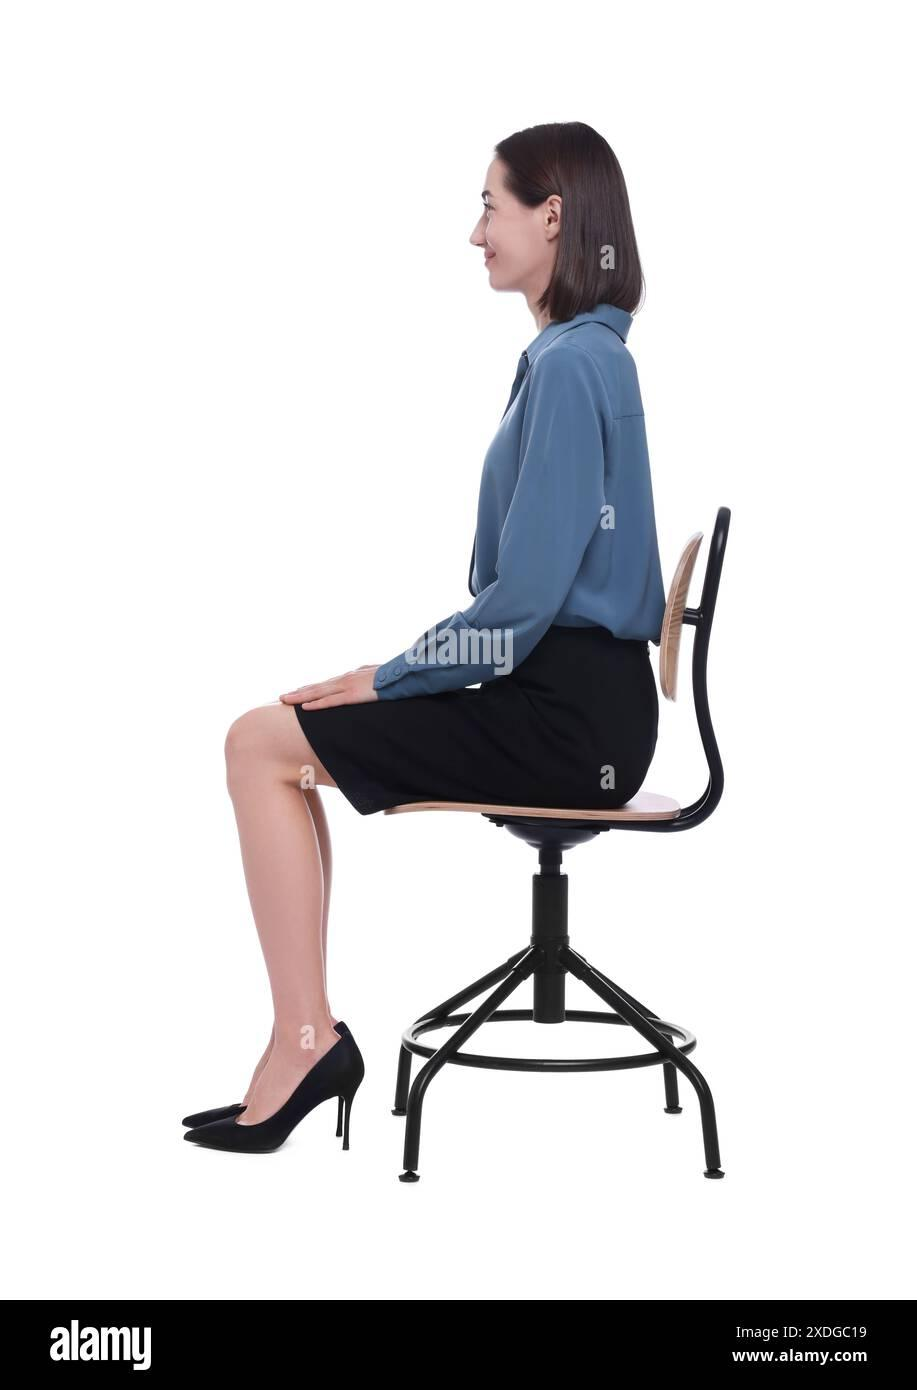Good Sitting Posture: (180, 118, 671, 1156)
